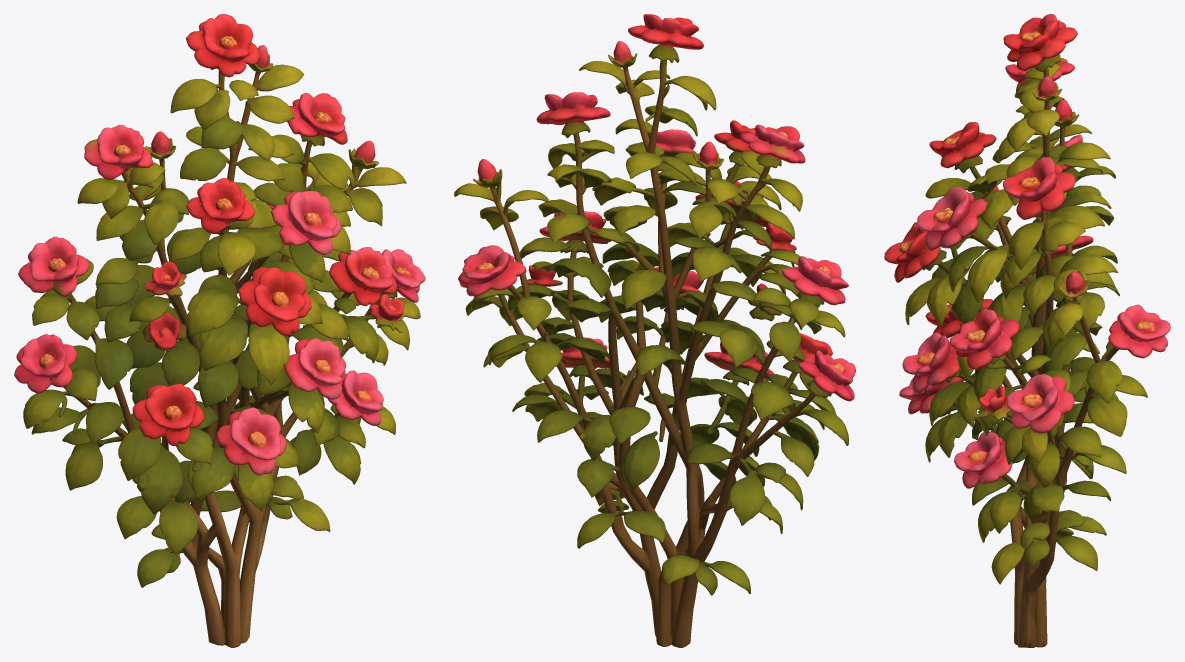
The model's file is rose-bush.glb.
3 renders of one model, left to right at view 1: azimuth 30°, elevation 25°; view 2: azimuth 150°, elevation 25°; view 3: azimuth 270°, elevation 25°, orthographic. The views are drawn at different scales.
Parts seen in each view (by area): view 1: tripo_node_9003086e-0d62-4880-aa1d-e261a22a16d0; view 2: tripo_node_9003086e-0d62-4880-aa1d-e261a22a16d0; view 3: tripo_node_9003086e-0d62-4880-aa1d-e261a22a16d0.
Part boxes in pixels (bbox=[...]): tripo_node_9003086e-0d62-4880-aa1d-e261a22a16d0: bbox=[14, 14, 425, 647]; tripo_node_9003086e-0d62-4880-aa1d-e261a22a16d0: bbox=[454, 14, 855, 647]; tripo_node_9003086e-0d62-4880-aa1d-e261a22a16d0: bbox=[884, 14, 1170, 647].
Size of the model in its own units: 0.6629 by 1 by 0.4151.
1 material, 1 textured.
